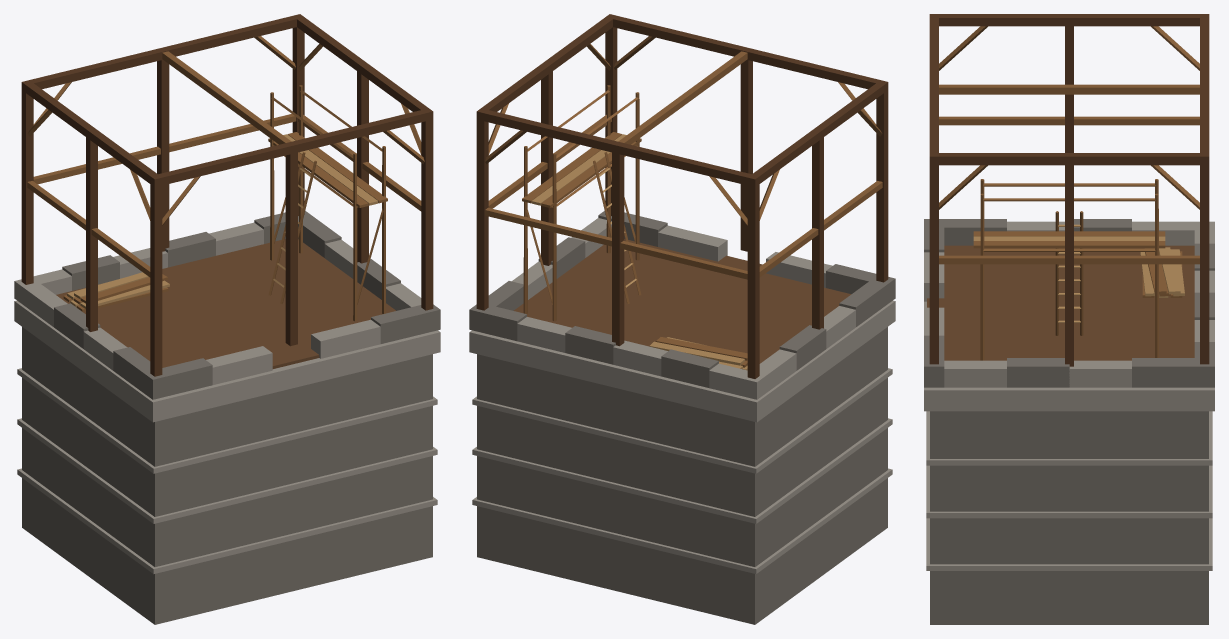
The model's file is site_6x5_2.glb.
3 renders of one model, left to right at view 1: azimuth 30°, elevation 25°; view 2: azimuth 150°, elevation 25°; view 3: azimuth 270°, elevation 25°, orthographic. The views are drawn at different scales.
Visible parts, largest first — view 1: site_6x5_2; view 2: site_6x5_2; view 3: site_6x5_2.
Part boxes in pixels (x1=…): site_6x5_2: x1=14, y1=14, x2=440, y2=624; site_6x5_2: x1=469, y1=14, x2=895, y2=624; site_6x5_2: x1=924, y1=14, x2=1214, y2=624.
Bounding box in the file's own units: 6 × 8.88 × 5.
